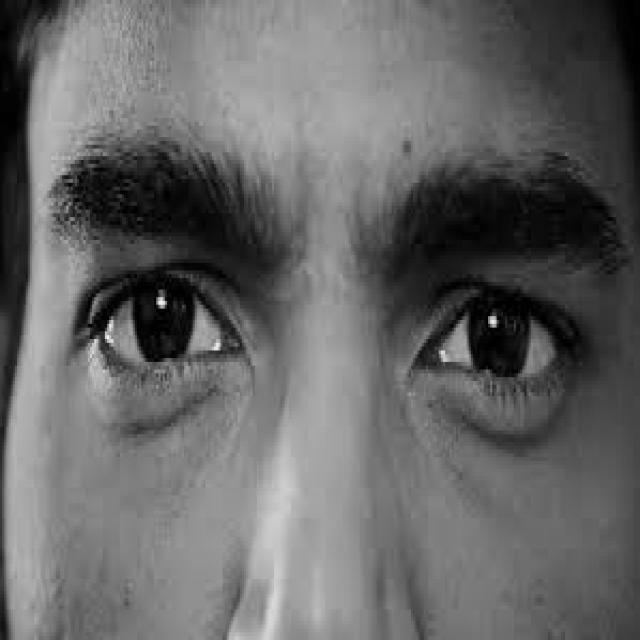real: (56, 162, 624, 476)
